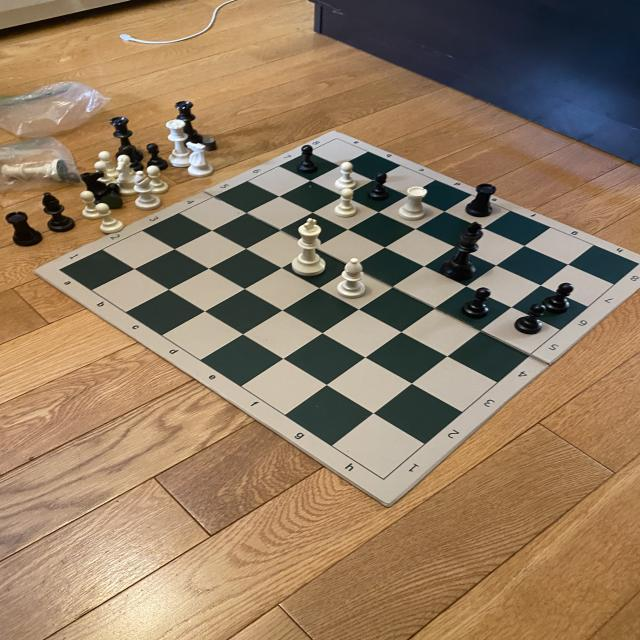chess-table-corners: (373, 472, 394, 482), (52, 266, 68, 278), (327, 135, 343, 145), (632, 258, 640, 268)
